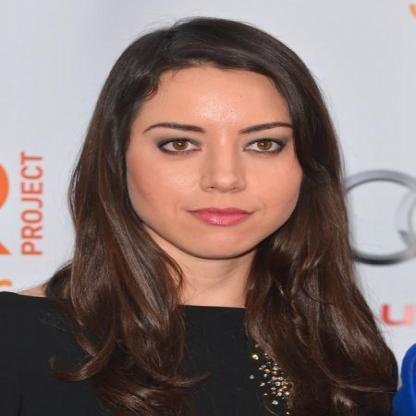long-hair: (57, 260, 367, 312)
